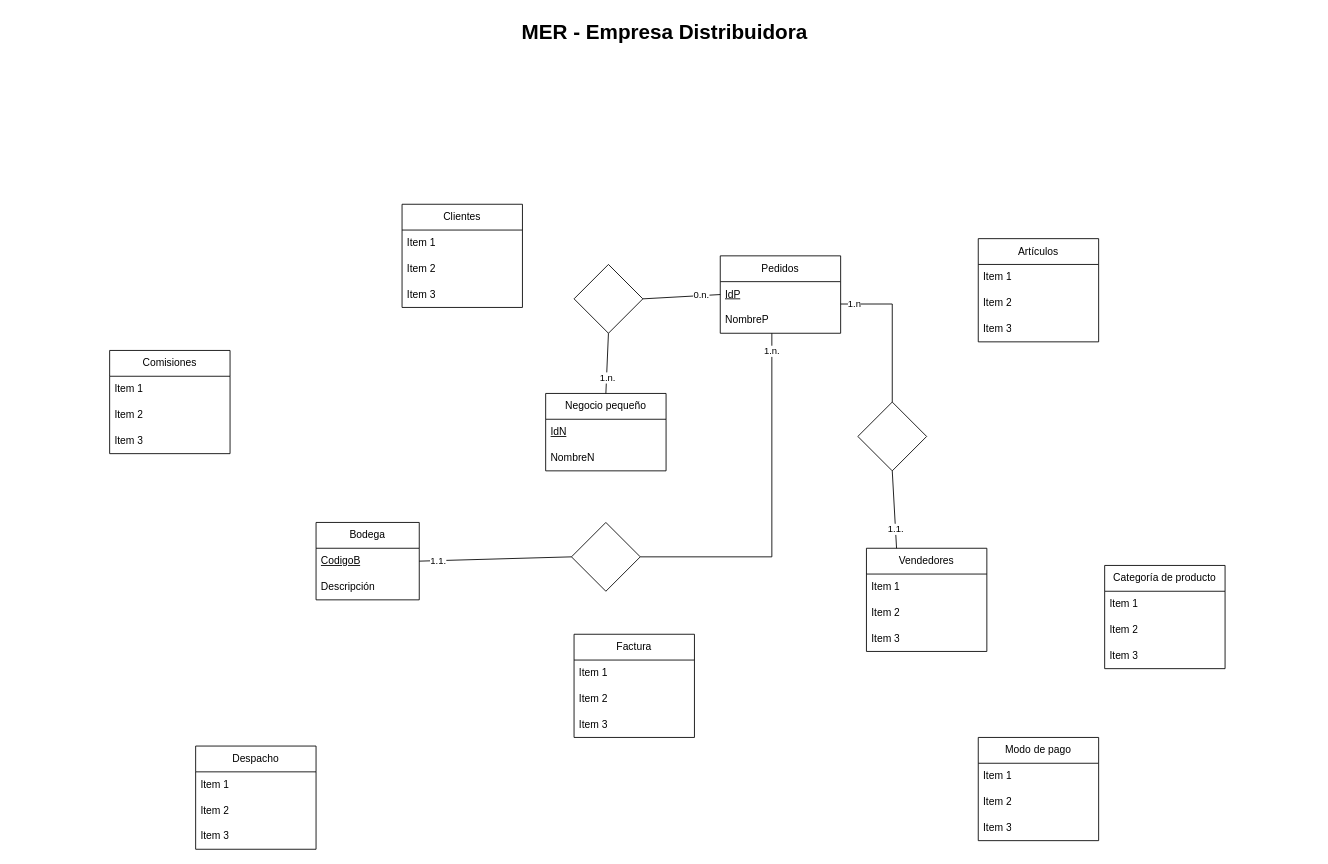
This 1328x864 diagram has some shape labels left out. The shapes that lost their labels are listed below. From the top down, each one's centre as x and y in pixels, then its label:
At (x=608, y=298): "Realizan".
At (x=892, y=436): "tomado".
At (x=605, y=556): "despachado".
